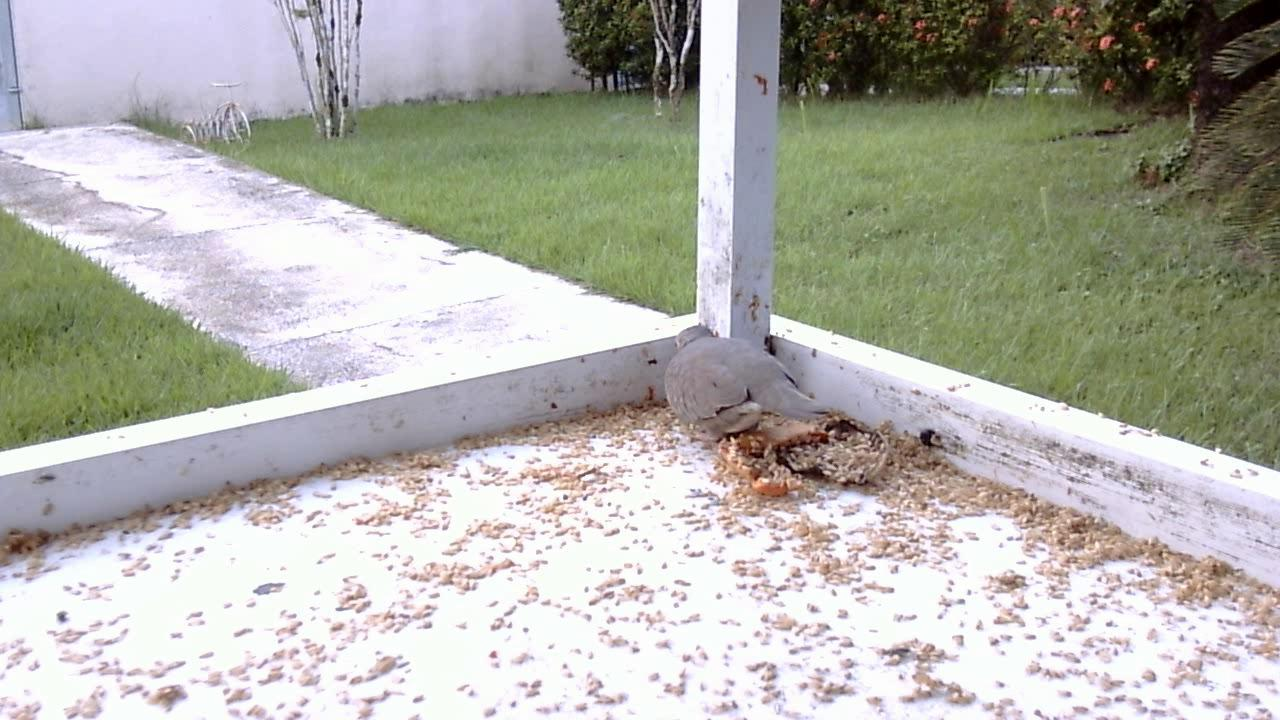rolinha: (658, 313, 857, 474)
